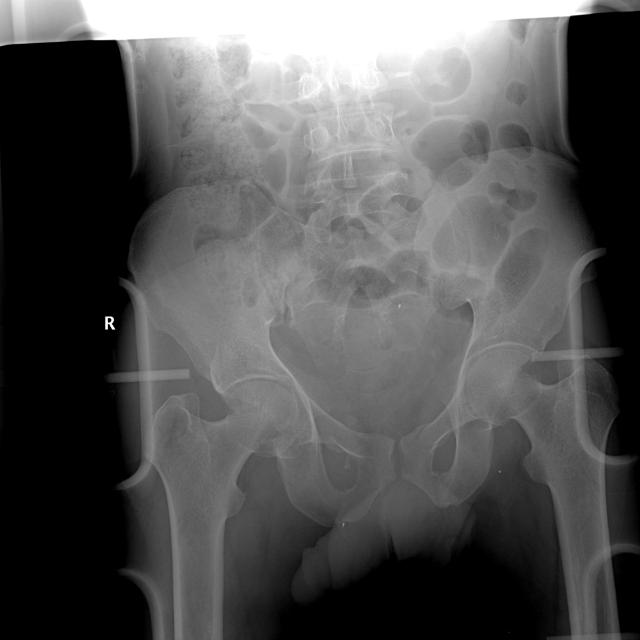normal-left: (466, 349, 622, 590)
normal-right: (145, 379, 300, 601)
